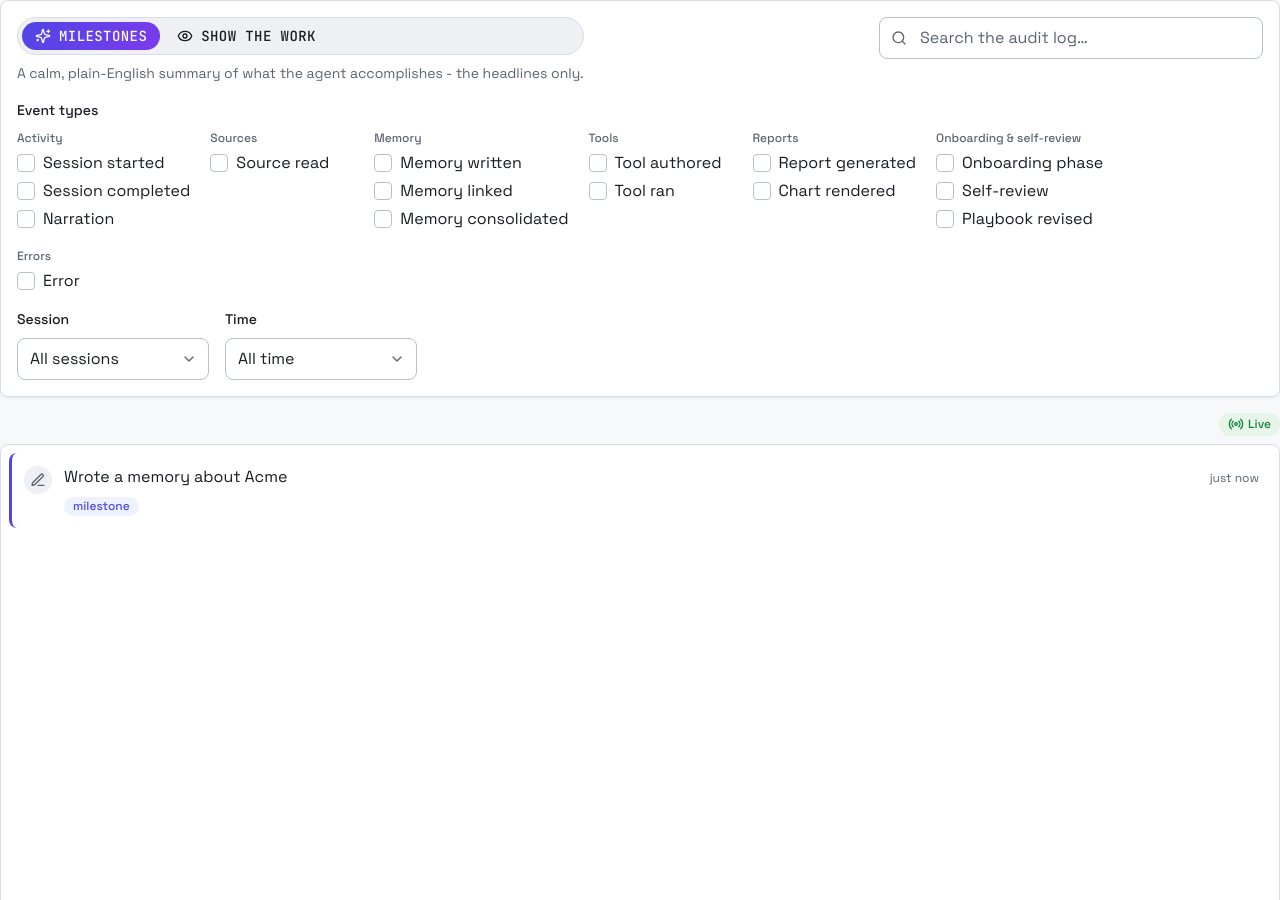
GlassCockpit › switches to search results when typing in the search box
This screenshot has width=1280, height=900.
Type "funding" into the search field named "search audit log" at (1071, 38), box [879, 17, 1263, 59]
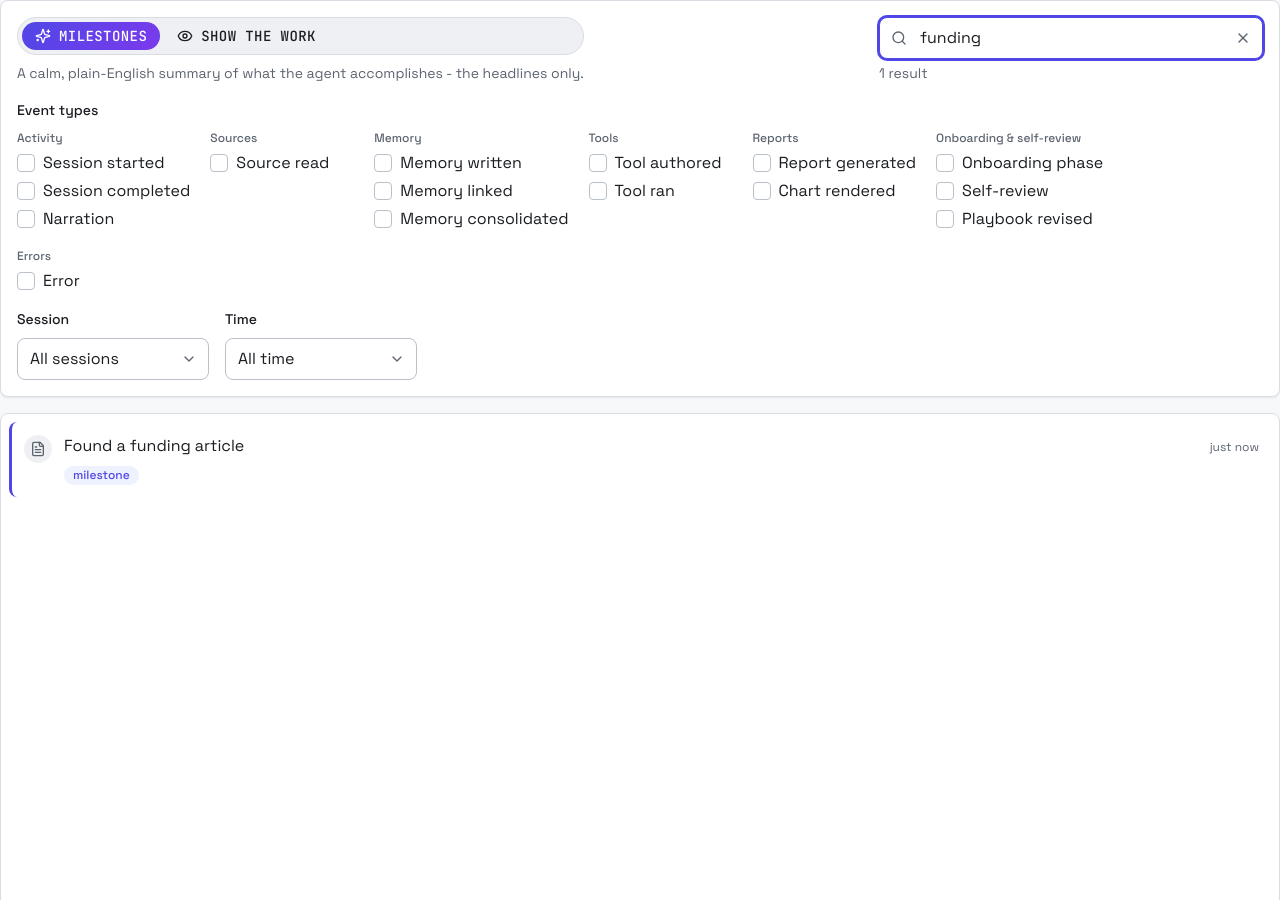
Check: the text "Found a funding article" is shown, box [64, 434, 244, 458]
